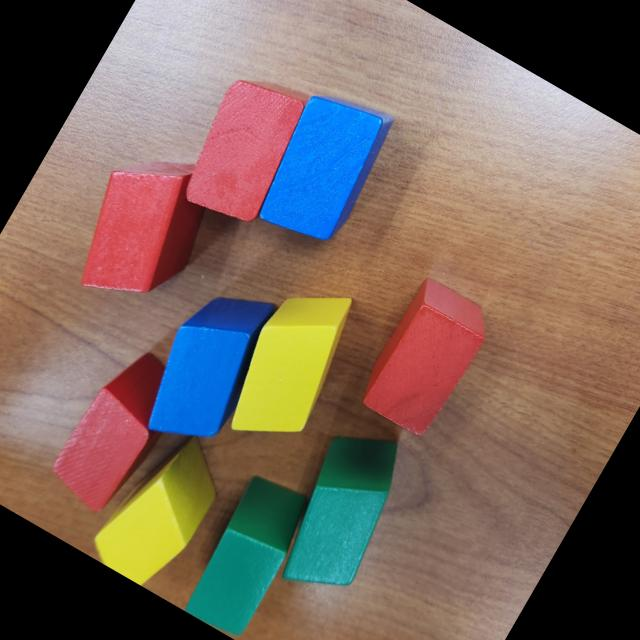blue: (126, 268, 293, 464), (244, 78, 403, 258)
green: (258, 414, 424, 611), (176, 467, 319, 640)
red: (54, 132, 234, 328), (39, 336, 191, 522), (166, 64, 320, 240), (351, 274, 499, 444)
yellow: (211, 268, 372, 461), (84, 418, 237, 595)
